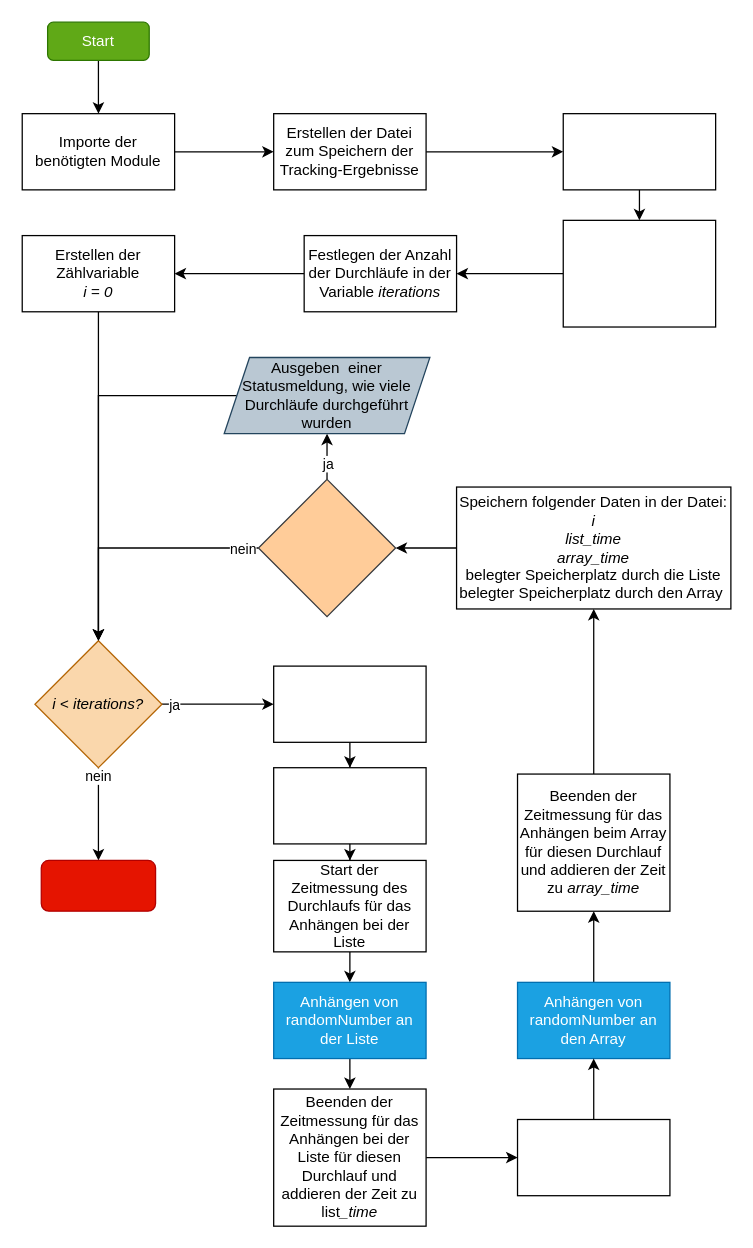
Image size: 753x1248. Some labels were removed from this diagram. Here are the shapes that lost their labels. From the top down, the box of each, then its label:
(562, 112, 716, 190): Erstellen des leeren Arrays und der leeren Liste
(562, 219, 716, 327): Erstellen der Variablen, die die Zeit speichern array_time = 0 list_time = 0
(257, 478, 396, 617): Ist i%1000 gleich 0 ?
(272, 665, 426, 742): i inkrementieren
(272, 766, 426, 844): zufälligen float randomNumber generieren
(40, 859, 156, 911): Ende
(516, 1118, 670, 1196): Start der Zeitmessung des Durchlaufs für das Anhängen beim Array
